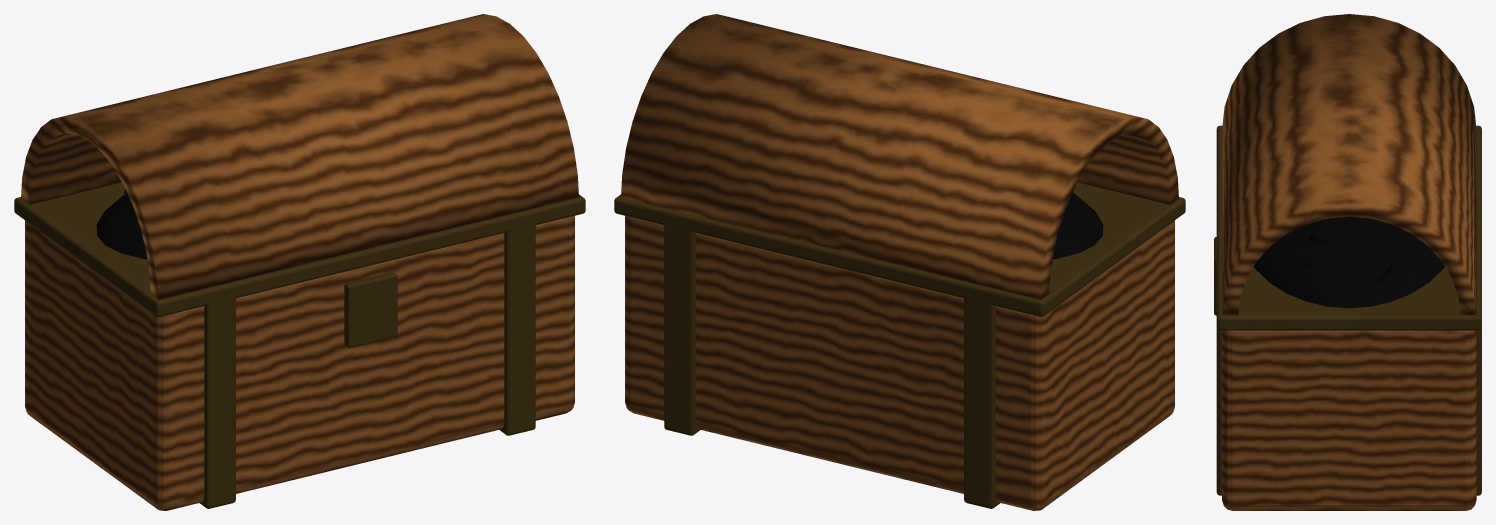
File: d_chest.glb
3 renders of one model, left to right at view 1: azimuth 30°, elevation 25°; view 2: azimuth 150°, elevation 25°; view 3: azimuth 270°, elevation 25°, orthographic. The views are drawn at different scales.
Visible parts, largest first — view 1: chest; view 2: chest; view 3: chest.
Boxes of the visible parts, x1,y1,x2,y2 form: chest: [14, 14, 585, 510]; chest: [614, 14, 1185, 510]; chest: [1214, 14, 1481, 510].
Size of the model in its own units: 0.86 by 0.655 by 0.505.
1 material, 1 textured.
